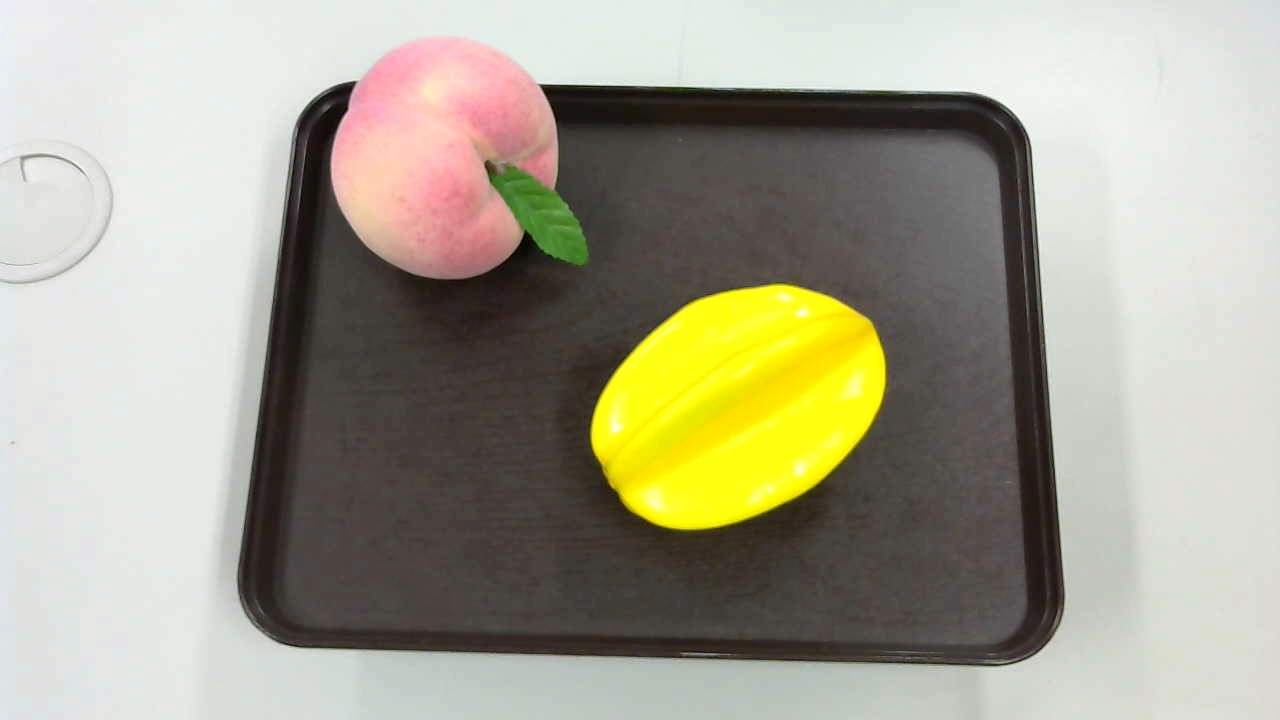peach: (326, 37, 602, 302)
star fruit: (591, 283, 887, 521)
